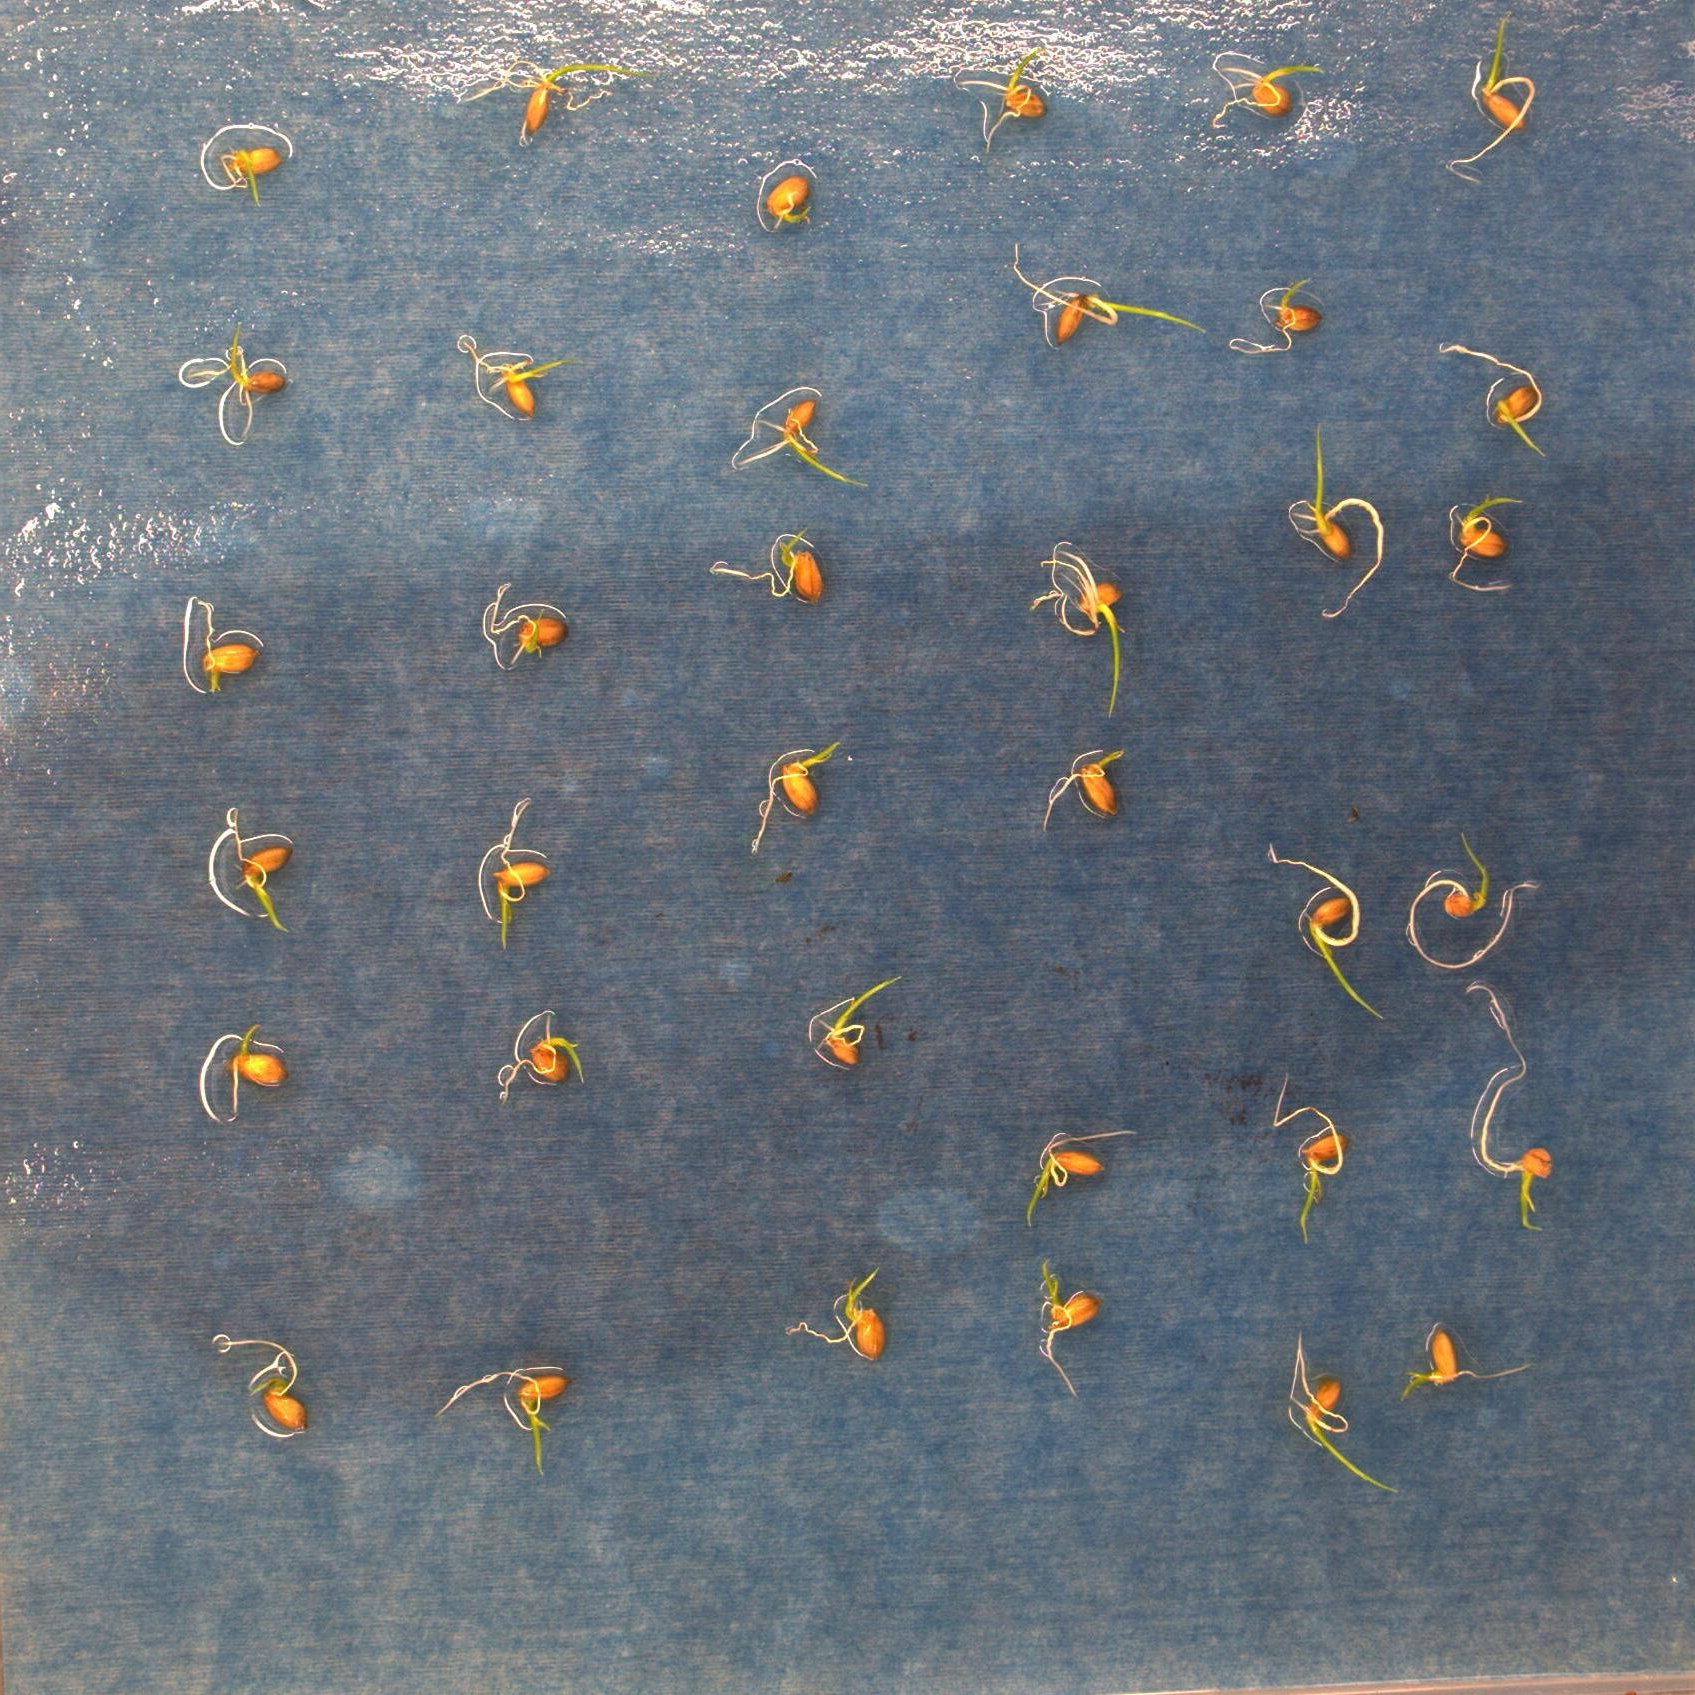not sprout: (765, 172, 815, 231)
sprout: (1464, 986, 1554, 1236), (1267, 841, 1385, 1021), (1012, 241, 1208, 345), (1288, 1333, 1400, 1496), (1293, 425, 1385, 619), (1409, 832, 1538, 969), (1445, 11, 1537, 188), (1028, 549, 1122, 719), (438, 1369, 573, 1479), (466, 67, 657, 141), (1271, 1071, 1352, 1243), (1439, 343, 1552, 459), (737, 397, 868, 489), (185, 321, 289, 435), (1024, 1128, 1139, 1229), (1400, 1319, 1534, 1402), (751, 744, 840, 855), (464, 338, 591, 416), (785, 1265, 885, 1364), (958, 48, 1048, 157), (490, 796, 551, 953), (1038, 1257, 1104, 1402), (712, 528, 826, 605), (220, 1340, 312, 1433), (500, 1012, 584, 1108), (231, 807, 295, 933), (1226, 276, 1322, 357), (1451, 495, 1527, 593), (1042, 747, 1127, 834), (820, 976, 900, 1065), (1212, 64, 1322, 127), (490, 584, 570, 663), (197, 601, 261, 695), (228, 1024, 289, 1121), (220, 144, 281, 205)
